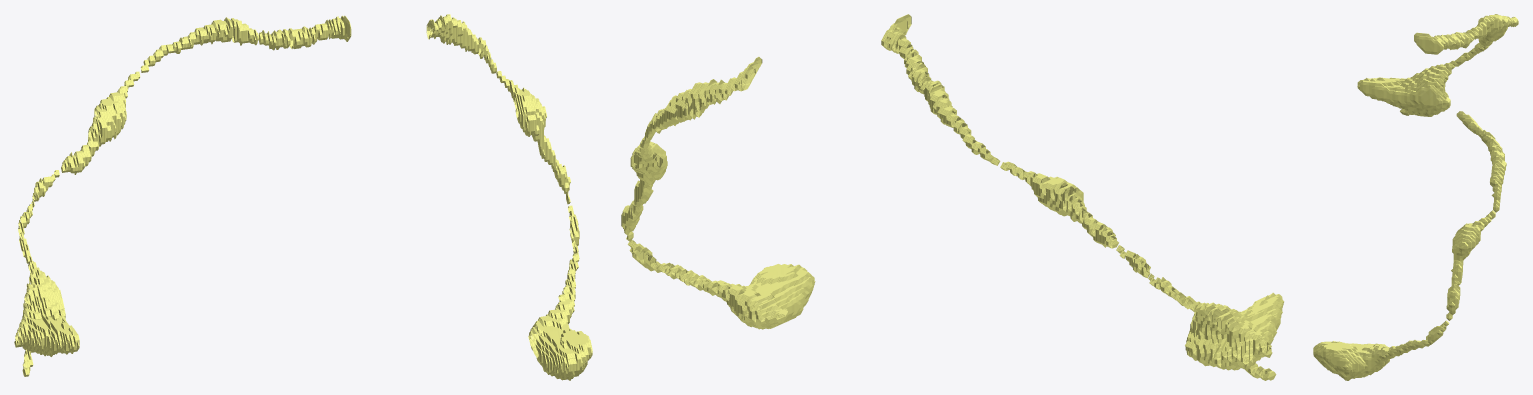
The model's file is SVV_ALA.gltf.
3 renders of one model, left to right at view 1: azimuth 30°, elevation 25°; view 2: azimuth 150°, elevation 25°; view 3: azimuth 270°, elevation 25°, orthographic. The views are drawn at different scales.
Parts seen in each view (by area): view 1: ALA; view 2: ALA; view 3: ALA.
Boxes of the visible parts, box(x1,y1,x2,y2) form: ALA: box(14, 14, 592, 380); ALA: box(621, 14, 1284, 380); ALA: box(1313, 14, 1518, 380).
Bounding box in the file's own units: 111033 × 66609 × 44099.
